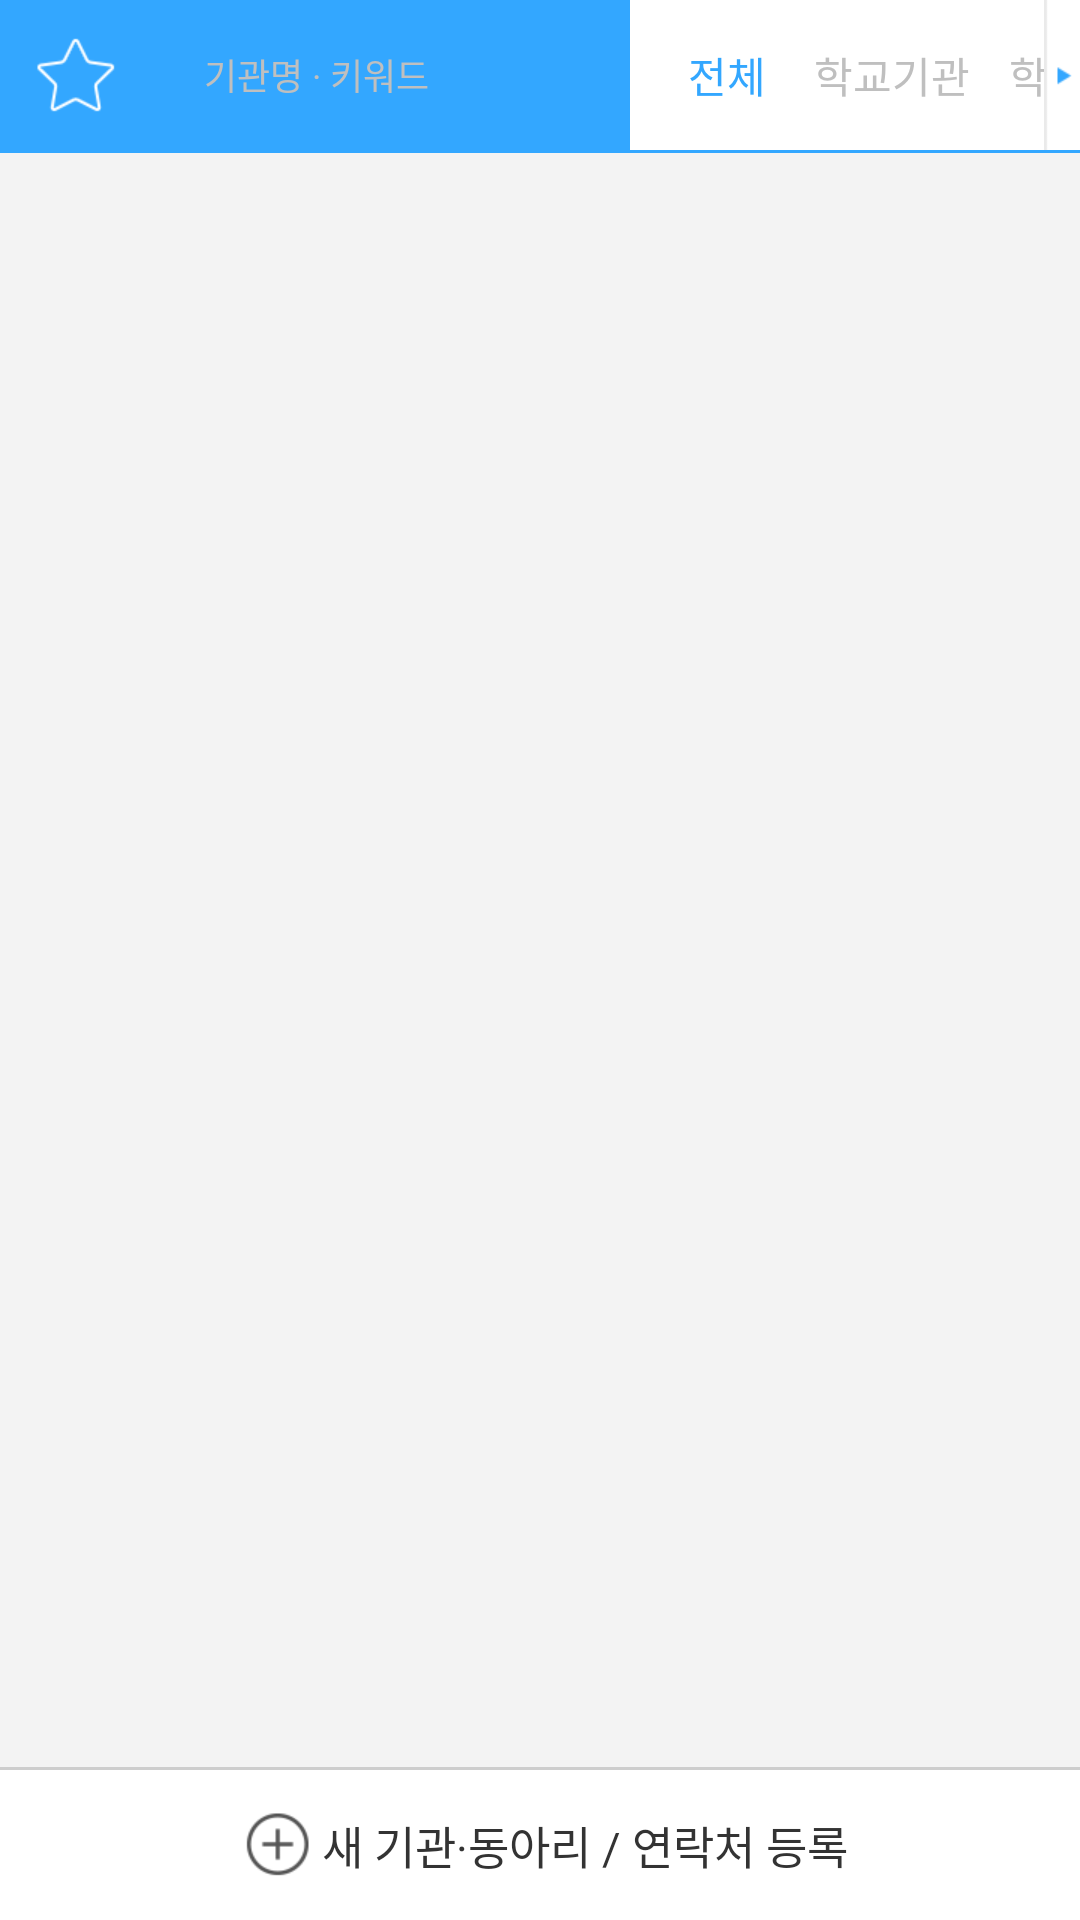

Icons on this 1080×1920 Android screen, each with its box as bbox=(x1, y1, x2, y2):
item add: bbox=(246, 1813, 309, 1876)
